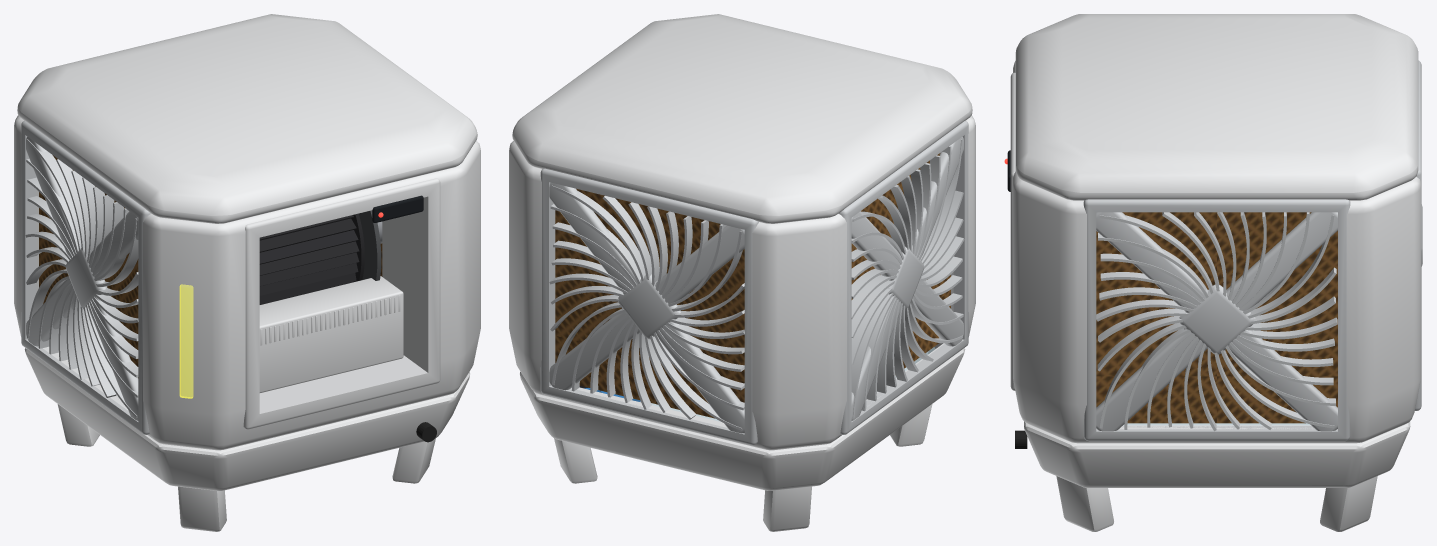
The model's file is purebreeze_pb98c.glb.
The picture shows the model from 3 angles, left to right: view 1: azimuth 30°, elevation 25°; view 2: azimuth 150°, elevation 25°; view 3: azimuth 270°, elevation 25°; orthographic projection. The views are drawn at different scales.
Visible parts, largest first — view 1: Top_Cover, Cabinet, Grille_Left, Outlet_Duct, Water_Tank, Outlet_Lip, Blower_Wheel, Legs, Pad_Left, Water_Window, Blower_Housing, Control_Panel; view 2: Top_Cover, Grille_Back, Cabinet, Grille_Left, Water_Tank, Pad_Back, Legs, Pad_Left; view 3: Top_Cover, Grille_Right, Cabinet, Pad_Right, Water_Tank, Legs, Outlet_Duct, Grille_Back.
Boxes of the visible parts, bbox=[...] form: Top_Cover: bbox=[17, 14, 477, 223]; Cabinet: bbox=[14, 115, 480, 450]; Grille_Left: bbox=[21, 120, 150, 434]; Outlet_Duct: bbox=[243, 178, 440, 429]; Water_Tank: bbox=[24, 348, 469, 490]; Outlet_Lip: bbox=[259, 276, 403, 392]; Blower_Wheel: bbox=[259, 213, 364, 304]; Legs: bbox=[57, 404, 435, 531]; Pad_Left: bbox=[39, 155, 138, 377]; Water_Window: bbox=[179, 284, 193, 398]; Blower_Housing: bbox=[358, 210, 381, 280]; Control_Panel: bbox=[372, 195, 423, 222]; Top_Cover: bbox=[512, 14, 972, 223]; Grille_Back: bbox=[540, 168, 758, 445]; Cabinet: bbox=[509, 115, 975, 450]; Grille_Left: bbox=[839, 120, 968, 434]; Water_Tank: bbox=[520, 343, 965, 490]; Pad_Back: bbox=[555, 188, 744, 418]; Legs: bbox=[554, 404, 932, 531]; Pad_Left: bbox=[851, 153, 950, 368]; Top_Cover: bbox=[1015, 14, 1418, 200]; Grille_Right: bbox=[1083, 199, 1350, 441]; Cabinet: bbox=[1013, 61, 1421, 443]; Pad_Right: bbox=[1096, 212, 1337, 423]; Water_Tank: bbox=[1024, 421, 1410, 487]; Legs: bbox=[1056, 476, 1377, 531]; Outlet_Duct: bbox=[1010, 72, 1015, 390]; Grille_Back: bbox=[1415, 60, 1422, 410].
Size of what is drawn, in the model's own units: 0.986 by 1.02 by 1.
Materials: 26 (3 with a texture image).
